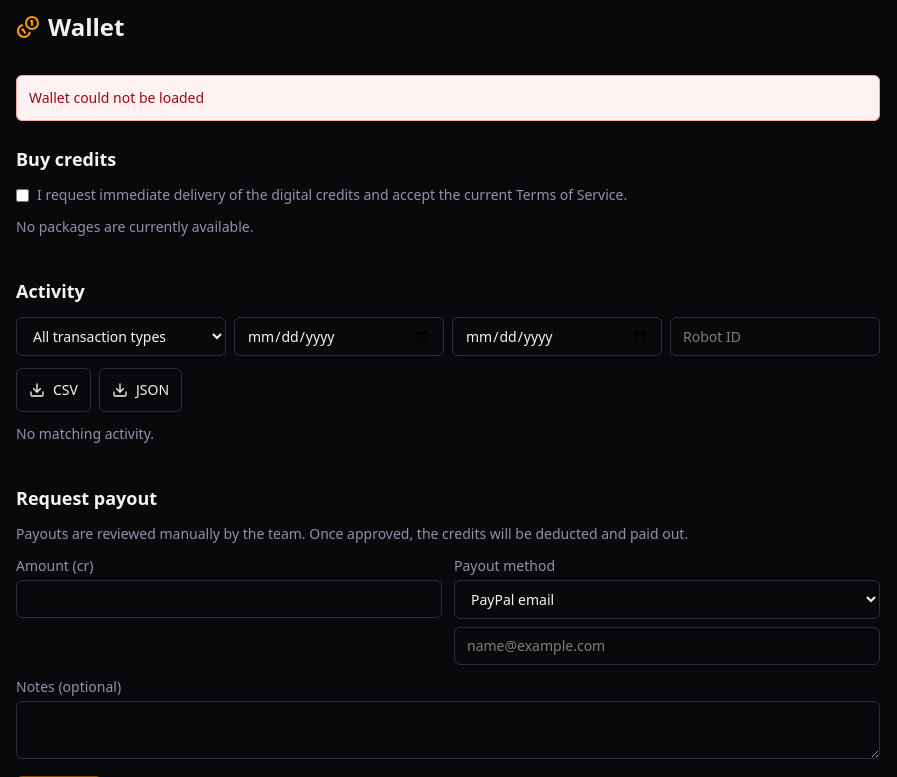
Test: WalletPage › surfaces history, export, and wallet-loading failures
Expected: the text "Wallet could not be loaded" is shown, [16, 75, 880, 121]
Click the button "CSV": (53, 390) [16, 368, 91, 412]
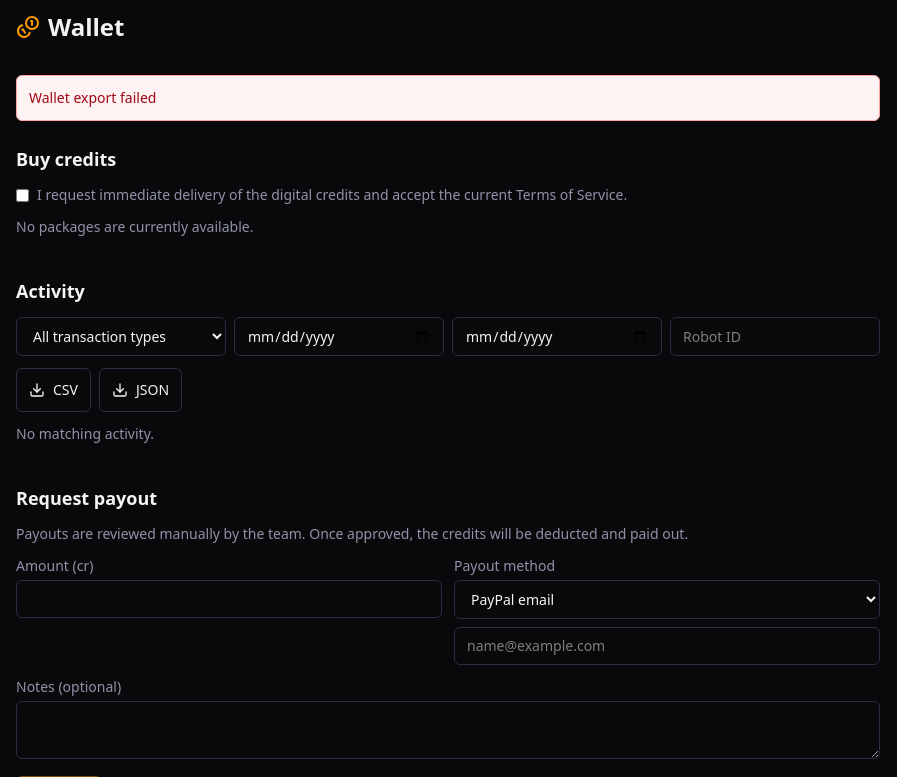
Now the text "Wallet export failed" is shown, box [16, 75, 880, 121]
